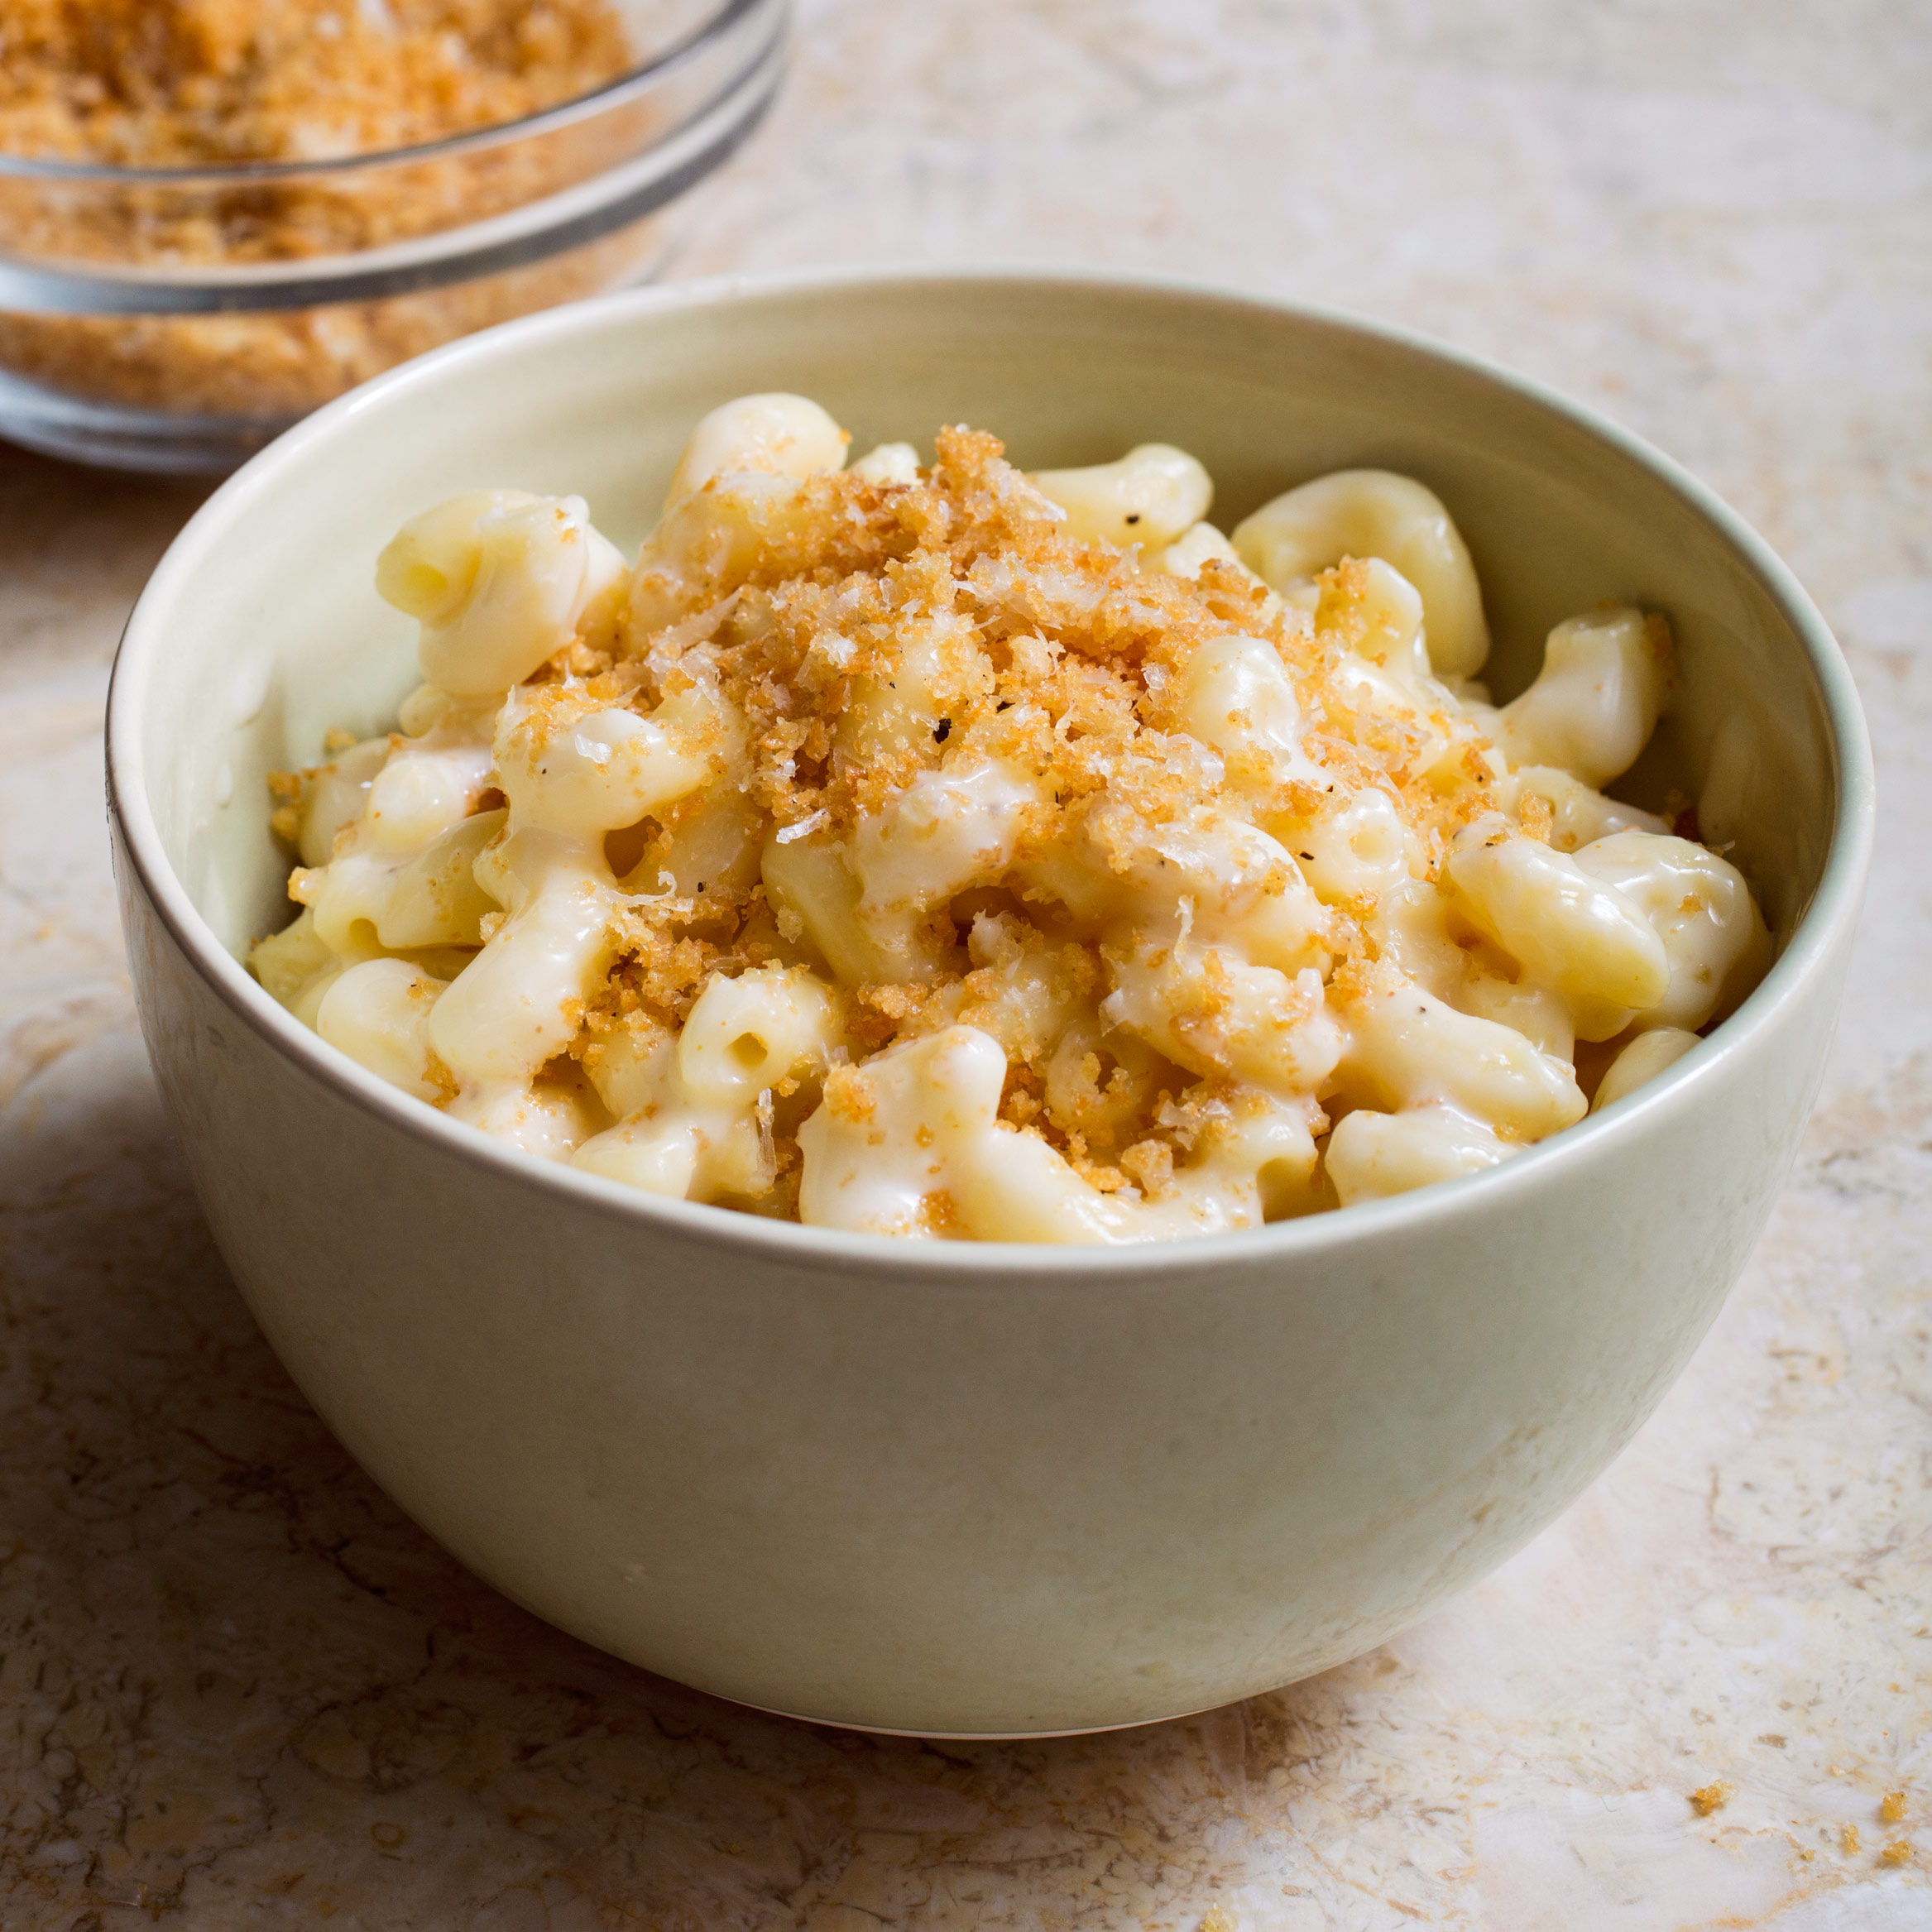macncheese: (313, 506, 1309, 1339)
